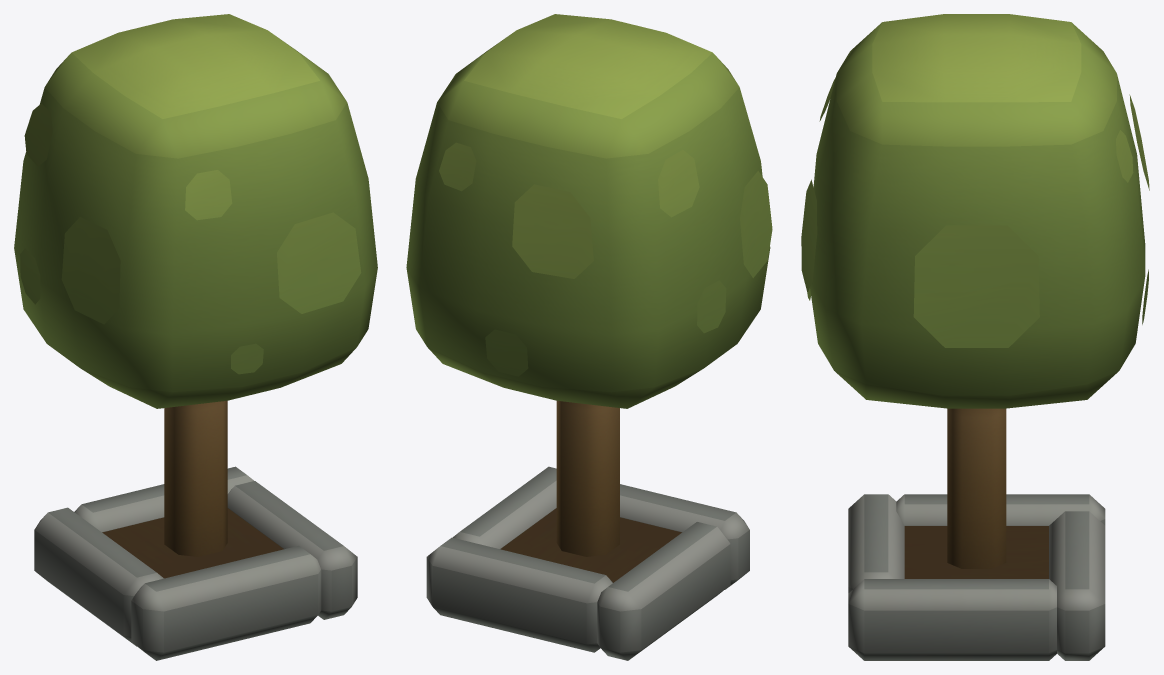
The model's file is tree_1.fbx.
3 views of the same model, side by side, from view 1: azimuth 30°, elevation 25°; view 2: azimuth 150°, elevation 25°; view 3: azimuth 270°, elevation 25° (orthographic). The views are drawn at different scales.
Parts seen in each view (by area): view 1: tree_1; view 2: tree_1; view 3: tree_1.
Part boxes in pixels (x1,y1,x2,y2): tree_1: [14, 14, 377, 660]; tree_1: [406, 14, 772, 660]; tree_1: [801, 14, 1149, 660].
Bounding box in the file's own units: 218 × 388 × 217.
